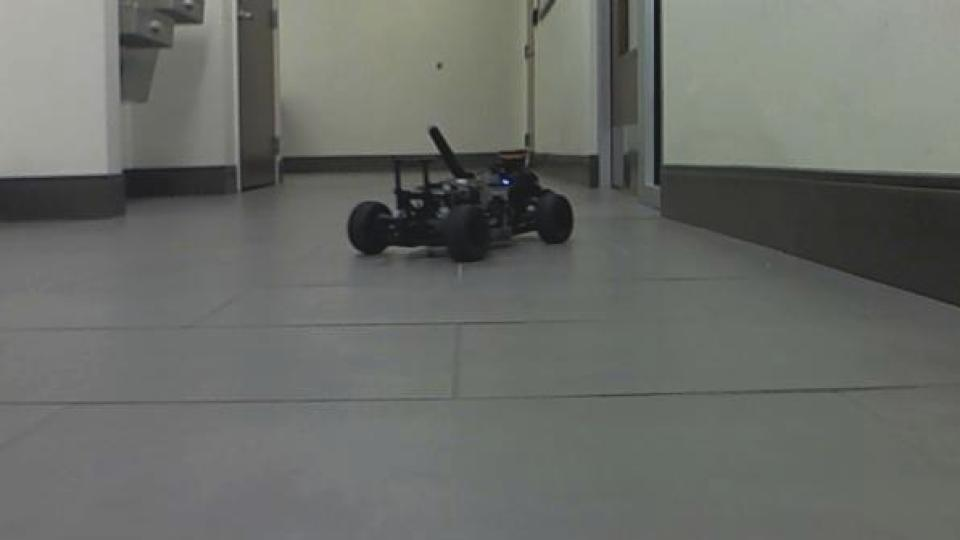car: (343, 123, 577, 265)
